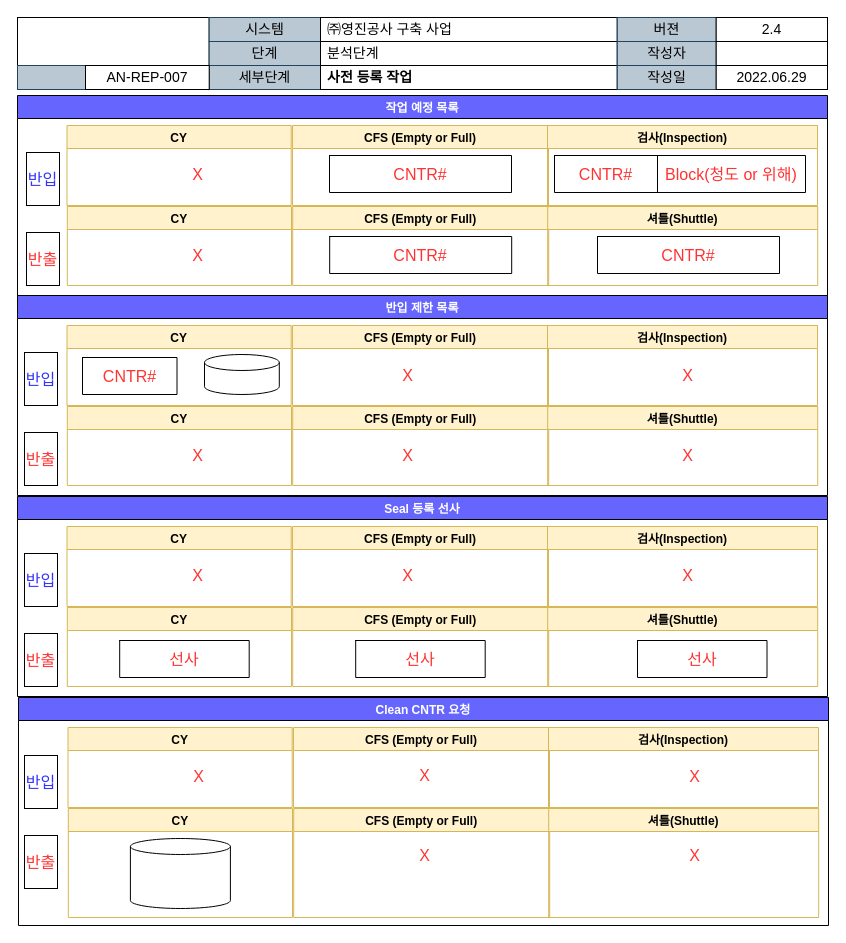
Image size: 846x943. Some labels were removed from this diagram. Here are the shapes that lost their labels. From the top down, the box of each, then its label:
(16, 16, 209, 66): Process 정의서
(715, 40, 828, 66): 박철규
(16, 64, 86, 90): 문서번호
(204, 354, 279, 394): 통합정보시스템
(129, 838, 230, 908): 통합정보시스템(Bookong)
